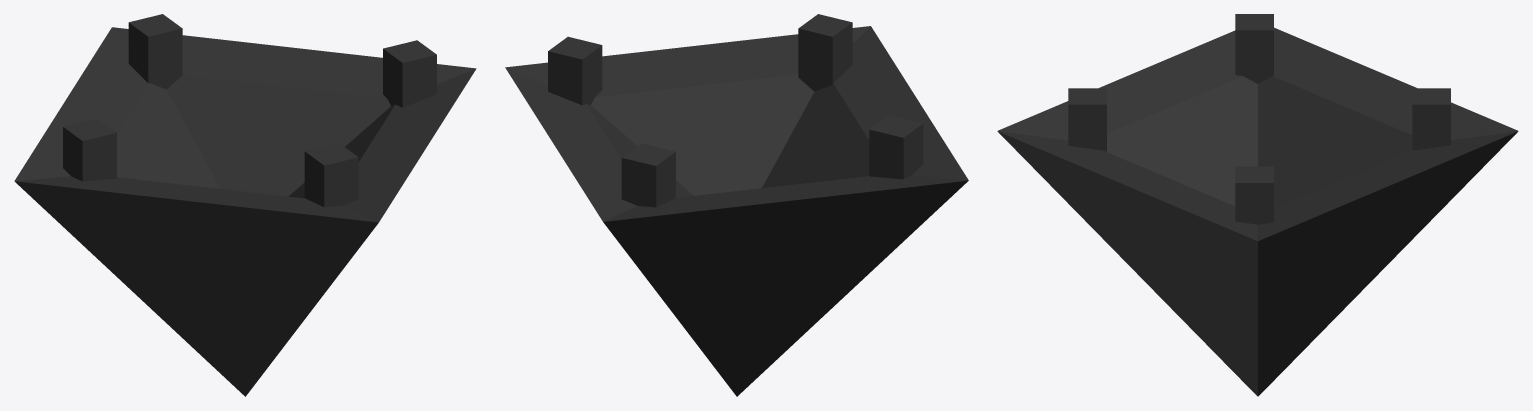
The model's file is HangingLightHolder.fbx.
3 renders of one model, left to right at view 1: azimuth 30°, elevation 25°; view 2: azimuth 150°, elevation 25°; view 3: azimuth 270°, elevation 25°, orthographic. The views are drawn at different scales.
Visible parts, largest first — view 1: HangingLightHolder; view 2: HangingLightHolder; view 3: HangingLightHolder.
Boxes of the visible parts, left/top/right/bottom form: HangingLightHolder: left=14, top=14, right=476, bottom=396; HangingLightHolder: left=505, top=14, right=968, bottom=396; HangingLightHolder: left=997, top=14, right=1518, bottom=396.
Size of the model in its own units: 153 by 96.79 by 153.
